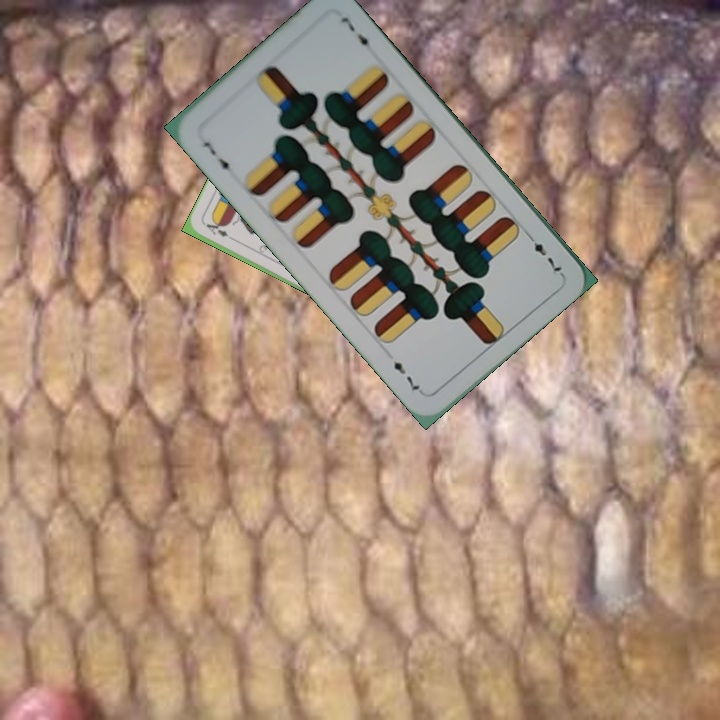E7: (522, 229, 565, 278), (199, 137, 235, 179)
EA: (202, 220, 238, 244)
